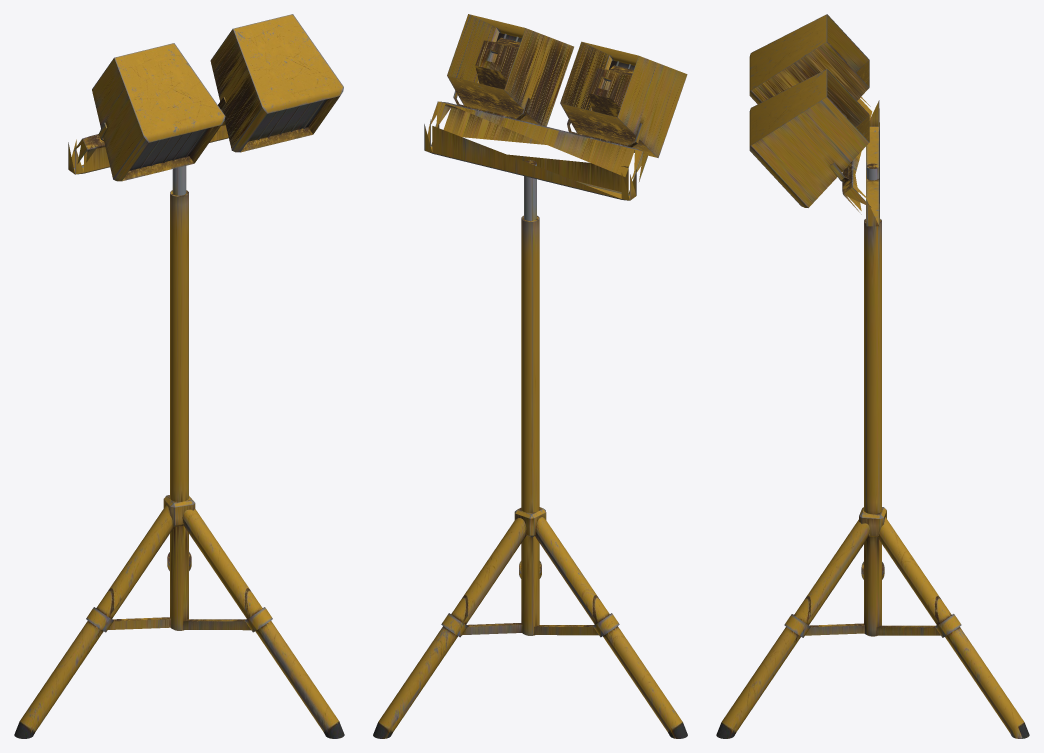
The model's file is floodlight.obj.
3 views of the same model, side by side, from view 1: azimuth 30°, elevation 25°; view 2: azimuth 150°, elevation 25°; view 3: azimuth 270°, elevation 25° (orthographic). The views are drawn at different scales.
Visible parts, largest first — view 1: Heads_Scene___Root, Stand_Scene___Root; view 2: Heads_Scene___Root, Stand_Scene___Root; view 3: Stand_Scene___Root, Heads_Scene___Root.
Part boxes in pixels (x1,y1,x2,y2): Heads_Scene___Root: (73,14,343,181); Stand_Scene___Root: (14,125,344,738); Heads_Scene___Root: (428,14,687,181); Stand_Scene___Root: (373,119,687,738); Stand_Scene___Root: (716,100,1029,738); Heads_Scene___Root: (749,14,872,214).
Bounding box in the file's own units: 1.08 × 2.59 × 1.14.
1 material, 1 textured.
